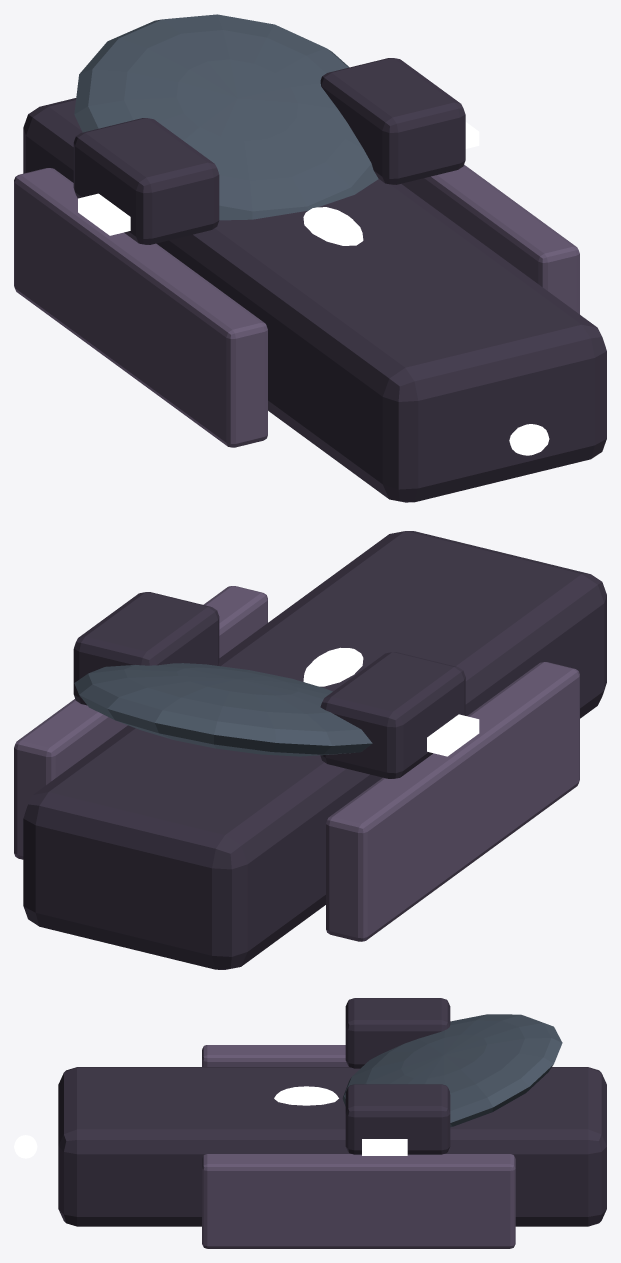
3 views of the same model, one above another, from view 1: azimuth 30°, elevation 25°; view 2: azimuth 150°, elevation 25°; view 3: azimuth 270°, elevation 25° (orthographic). The views are drawn at different scales.
Visible parts, largest first — view 1: RIMWARD_HULL, RIMWARD_EMISSIVE, RIMWARD_ENGINE_GLOW; view 2: RIMWARD_HULL, RIMWARD_EMISSIVE; view 3: RIMWARD_HULL, RIMWARD_EMISSIVE, RIMWARD_ENGINE_GLOW.
Boxes of the visible parts, x1,y1,x2,y2 form: RIMWARD_HULL: (14, 14, 606, 502); RIMWARD_EMISSIVE: (78, 122, 479, 245); RIMWARD_ENGINE_GLOW: (509, 424, 549, 455); RIMWARD_HULL: (14, 531, 606, 969); RIMWARD_EMISSIVE: (303, 647, 479, 756); RIMWARD_HULL: (58, 998, 606, 1248); RIMWARD_EMISSIVE: (274, 1086, 407, 1155); RIMWARD_ENGINE_GLOW: (14, 1135, 37, 1158).
Bounding box in the file's own units: 7.96 × 4.52 × 15.44.
